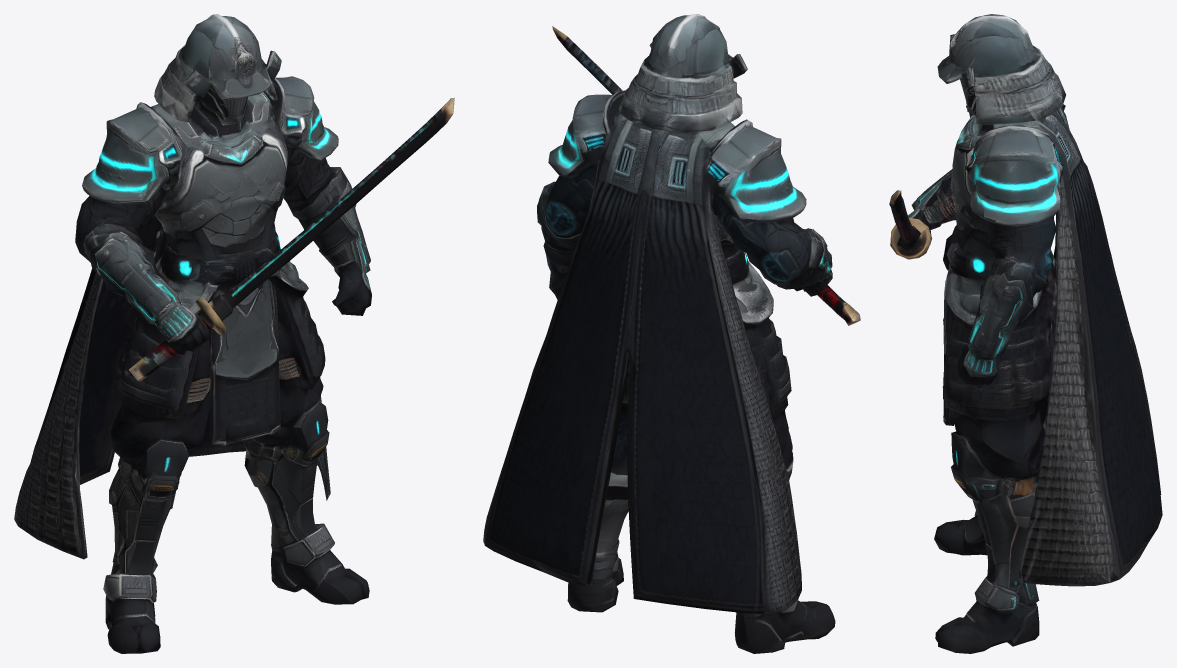
Rendered from cyber_shogun.glb.
3 views of the same model, side by side, from view 1: azimuth 30°, elevation 25°; view 2: azimuth 150°, elevation 25°; view 3: azimuth 270°, elevation 25° (orthographic). The views are drawn at different scales.
Parts seen in each view (by area): view 1: mesh_node; view 2: mesh_node; view 3: mesh_node.
Part boxes in pixels (box(x1,y1,x2,y2)): mesh_node: box(14, 14, 454, 653); mesh_node: box(483, 14, 860, 653); mesh_node: box(889, 14, 1162, 653).
Bounding box in the file's own units: 1.18 × 2 × 0.8523.
Materials: 1 (1 with a texture image).
